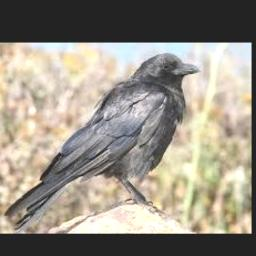Crow: (4, 52, 202, 234)
